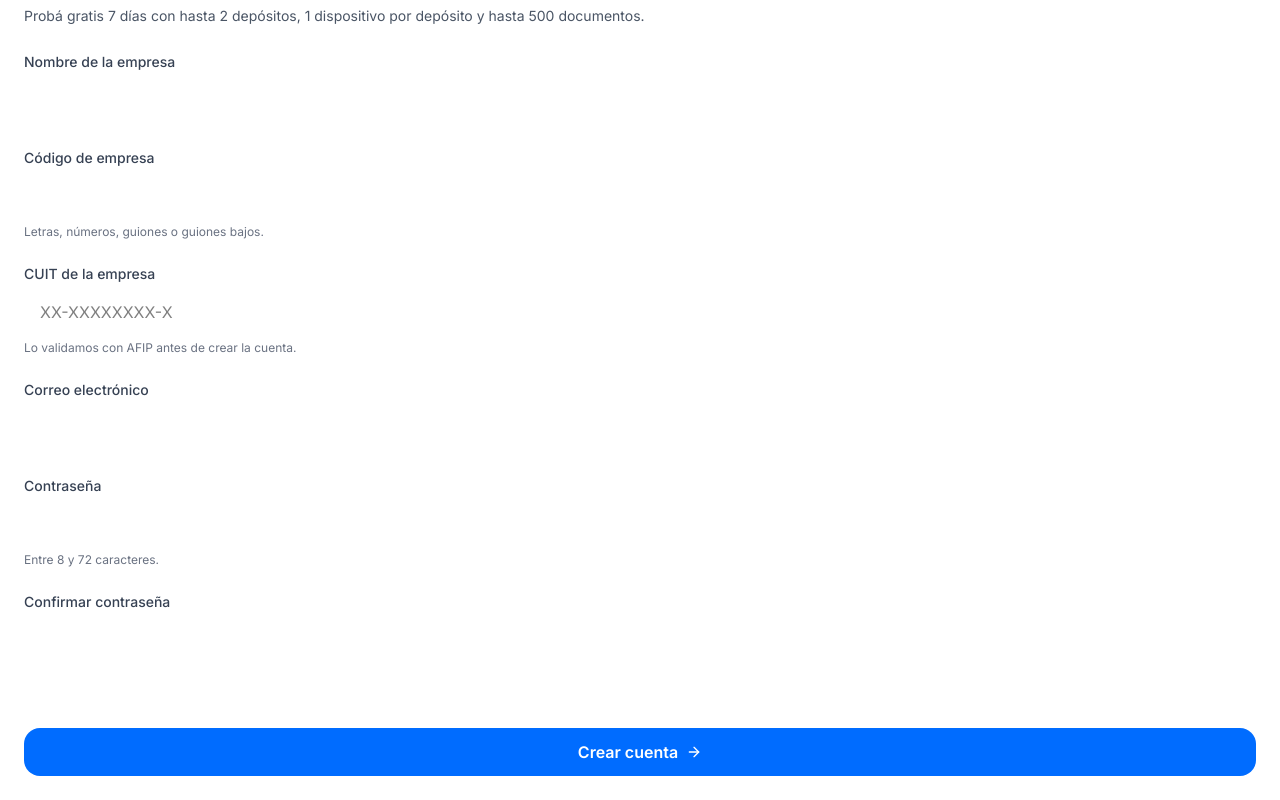
Test: SignupForm › shows validation errors when required account fields are missing
The image size is (1280, 800).
(page scrolled)
Click the button "Crear cuenta" at (640, 752), box [24, 728, 1256, 776]
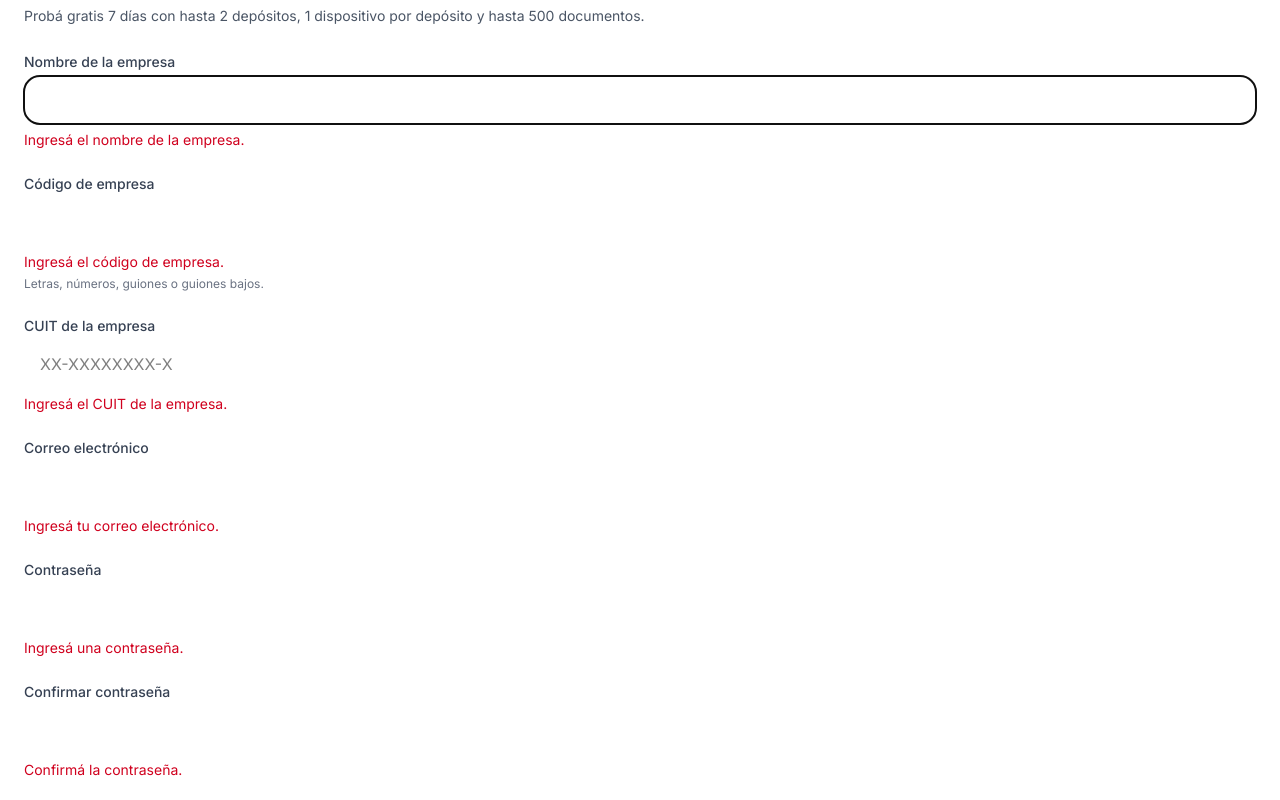
Expected: the text "Ingresá el nombre de la empresa." is shown, [24, 131, 244, 148]
Expected: the text "Ingresá el código de empresa." is shown, [24, 253, 224, 270]
Expected: the text "Ingresá el CUIT de la empresa." is shown, [24, 395, 227, 412]
